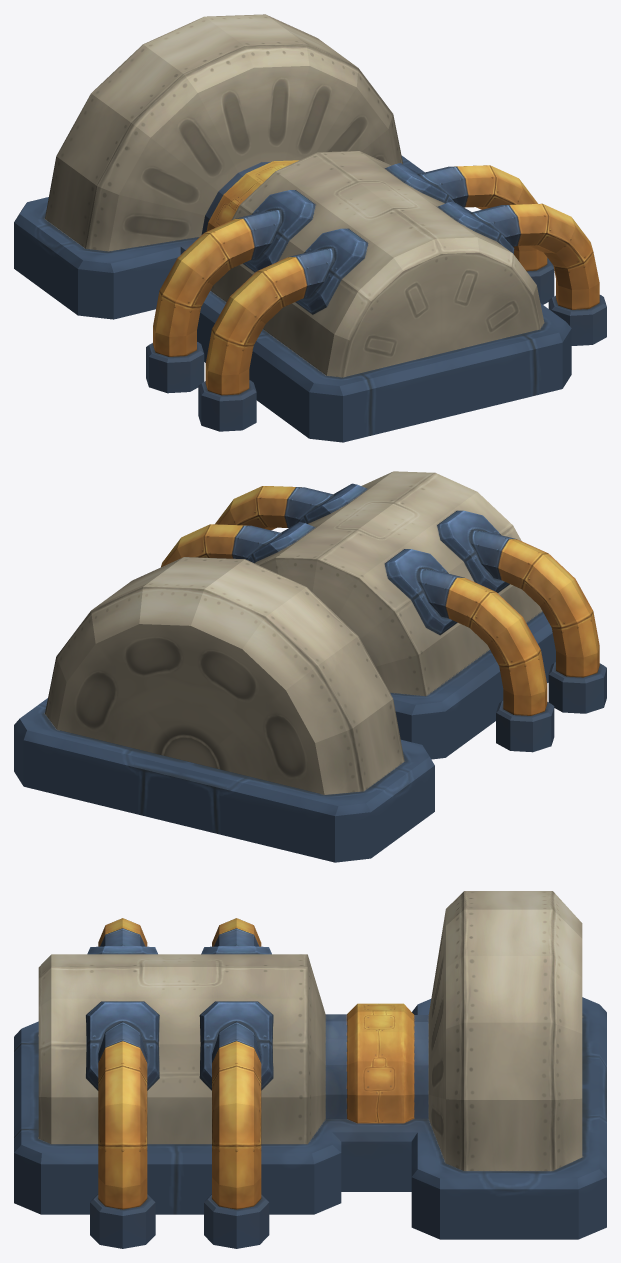
Rendered from energy_station_v2_new.fbx.
3 views of the same model, one above another, from view 1: azimuth 30°, elevation 25°; view 2: azimuth 150°, elevation 25°; view 3: azimuth 270°, elevation 25° (orthographic). The views are drawn at different scales.
Parts seen in each view (by area): view 1: energy_station_new; view 2: energy_station_new; view 3: energy_station_new.
Part boxes in pixels (<box>): energy_station_new: <box>14,14,606,442</box>; energy_station_new: <box>14,471,606,862</box>; energy_station_new: <box>14,891,606,1248</box>.
Size of the model in its own units: 242 by 285 by 125.
